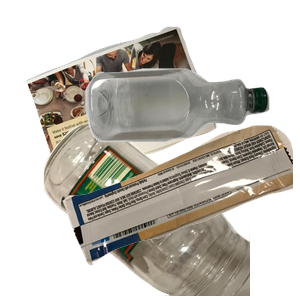glass: (41, 120, 281, 300)
paper: (23, 24, 232, 199)
plastic: (83, 66, 300, 201)
trash: (60, 123, 300, 300)
